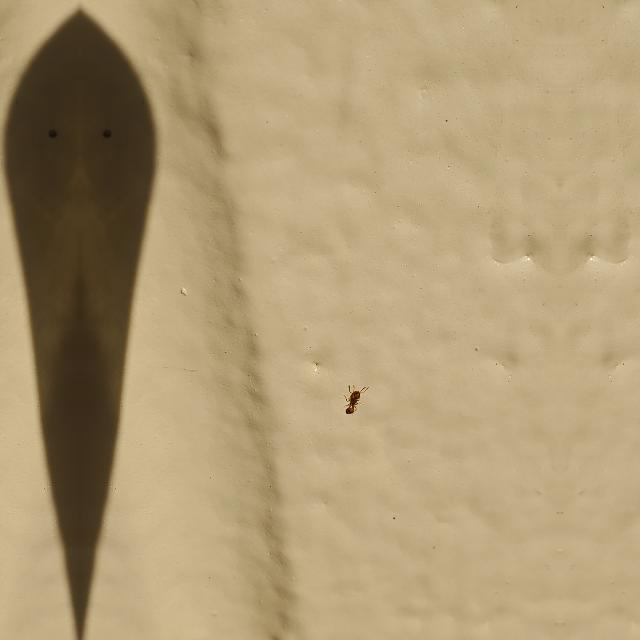Temnothorax: (338, 376, 368, 424)
